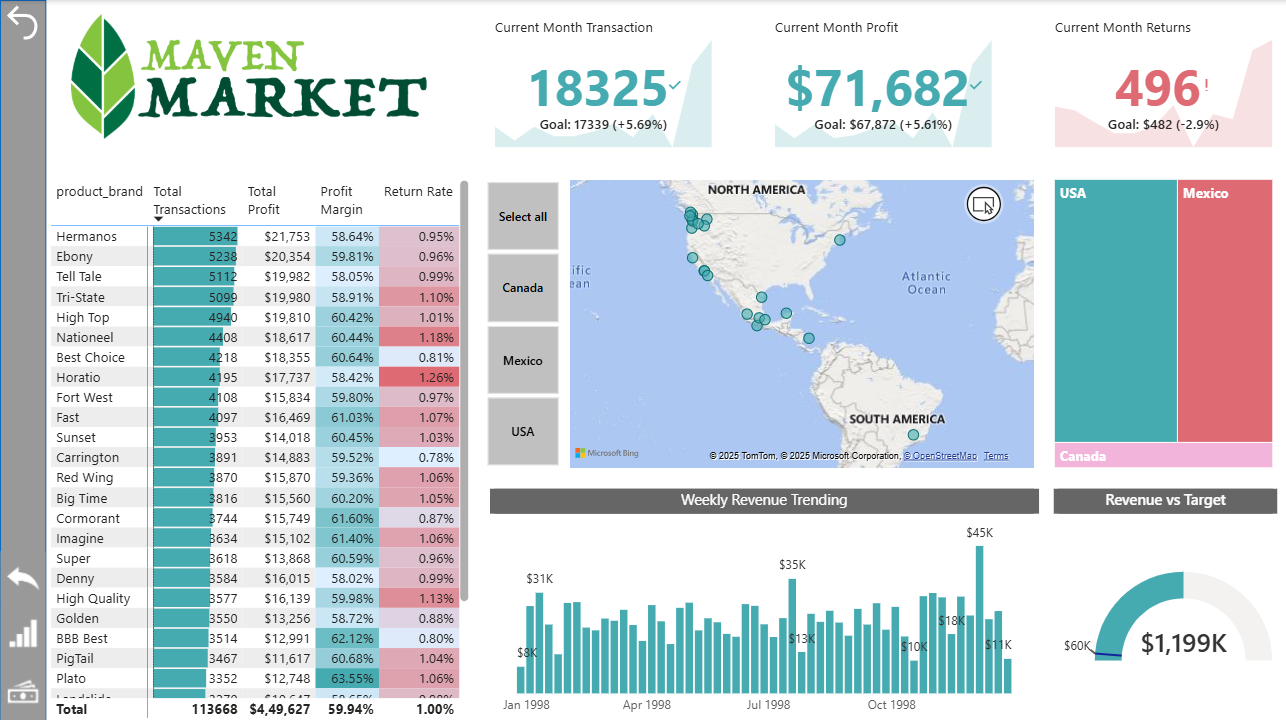

This screenshot's page, from the dashboard's own definition file:
{"tool":"powerbi","page":{"name":"Top Line Performance","canvas":[1280,720],"ordinal":0},"visuals":[{"type":"image","box":[33.6,0,425.4,151.8],"z":0},{"type":"pivotTable","fields":{"Values":["Measure Table.Total Transactions","Measure Table.Total Profit","Measure Table.Profit Margin","Measure Table.Return Rate"],"Rows":["Products.product_brand"]},"box":[46,174.2,425.4,546.1],"z":1000},{"type":"kpi","title":"Current Month Transaction","fields":{"Indicator":["Measure Table.Total Transactions"],"TrendLine":["Calendar.Start of Month"],"Goal":["Measure Table.Last Month Transactions"]},"box":[487.6,17.4,226,134.3],"z":2000},{"type":"kpi","title":"Current Month Profit","fields":{"TrendLine":["Calendar.Start of Month"],"Indicator":["Measure Table.Total Profit"],"Goal":["Measure Table.Last Month Profit"]},"box":[766.3,17.4,226,134.3],"z":3000},{"type":"kpi","title":"Current Month Returns","fields":{"TrendLine":["Calendar.Start of Month"],"Indicator":["Measure Table.Total Returns"],"Goal":["Measure Table.Last Month Returns"]},"box":[1044.9,17.4,226.4,134.3],"z":4000},{"type":"map","fields":{"Category":["Stores.store_city"]},"box":[562.3,174.2,471.5,296.1],"z":5000},{"type":"slicer","fields":{"Values":["Stores.store_country"]},"box":[459,174.2,120.7,296.1],"z":6000},{"type":"treemap","fields":{"Values":["Measure Table.Total Transactions"],"Group":["Stores.store_country","Stores.store_state","Stores.store_city"]},"box":[1044.9,174.2,226.4,296.1],"z":7000},{"type":"gauge","title":" Revenue vs Target","fields":{"Y":["Measure Table.Total Revenue"],"TargetValue":["Measure Table.Revenue Target"]},"box":[1048.7,486.4,222.7,233.9],"z":8000},{"type":"clusteredColumnChart","title":"Weekly Revenue Trending","fields":{"Y":["Measure Table.Total Revenue"],"Category":["Calendar.Start of Week"]},"box":[487.6,486.4,546.1,233.9],"z":9000},{"type":"shape","box":[0,0,46,720.3],"z":10000},{"type":"actionButton","box":[0,0,46,44.8],"z":11000},{"type":"actionButton","box":[0,603.3,46,53.5],"z":12000},{"type":"actionButton","box":[0,656.8,46,63.4],"z":13000},{"type":"actionButton","box":[0,548.6,46,54.7],"z":14000}]}

Visuals, with their boxes on the page's 1280x720 design canvas (x1, y1, x2, y2). These are canvas units, not pixel positions in the 1286x720 screenshot, which may show the page scaled, cropped or inside an application window:
image: select_region(34, 0, 459, 152)
pivotTable - Measure Table.Total Transactions x Measure Table.Total Profit: select_region(46, 174, 471, 720)
"Current Month Transaction" kpi: select_region(488, 17, 714, 152)
"Current Month Profit" kpi: select_region(766, 17, 992, 152)
"Current Month Returns" kpi: select_region(1045, 17, 1271, 152)
map - Stores.store_city: select_region(562, 174, 1034, 470)
slicer - Stores.store_country: select_region(459, 174, 580, 470)
treemap - Measure Table.Total Transactions x Stores.store_country: select_region(1045, 174, 1271, 470)
" Revenue vs Target" gauge: select_region(1049, 486, 1271, 720)
"Weekly Revenue Trending" clusteredColumnChart: select_region(488, 486, 1034, 720)
shape: select_region(0, 0, 46, 720)
actionButton: select_region(0, 0, 46, 45)
actionButton: select_region(0, 603, 46, 657)
actionButton: select_region(0, 657, 46, 720)
actionButton: select_region(0, 549, 46, 603)
